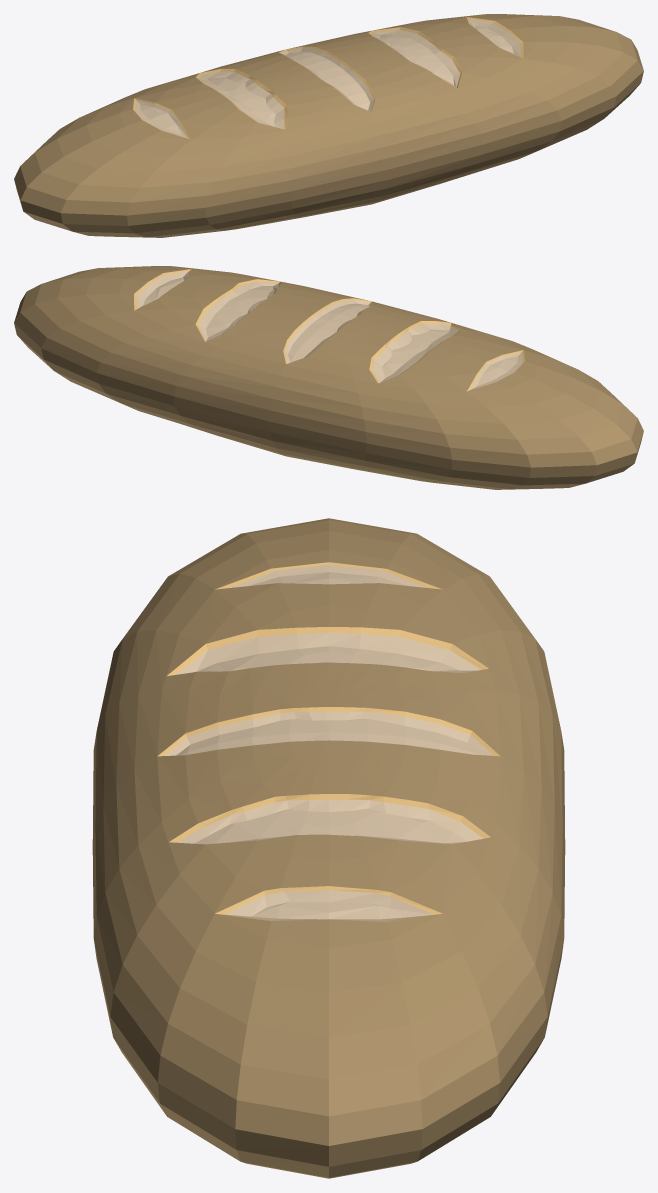
Rendered from bread.fbx.
3 renders of one model, top to bottom at view 1: azimuth 30°, elevation 25°; view 2: azimuth 150°, elevation 25°; view 3: azimuth 270°, elevation 25°, orthographic. The views are drawn at different scales.
Parts seen in each view (by area): view 1: pSphere4; view 2: pSphere4; view 3: pSphere4.
Boxes of the visible parts, left/top/right/bottom form: pSphere4: left=14, top=14, right=643, bottom=237; pSphere4: left=14, top=266, right=643, bottom=489; pSphere4: left=92, top=518, right=565, bottom=1178.
Bounding box in the file's own units: 51.04 × 9.37 × 16.93.
